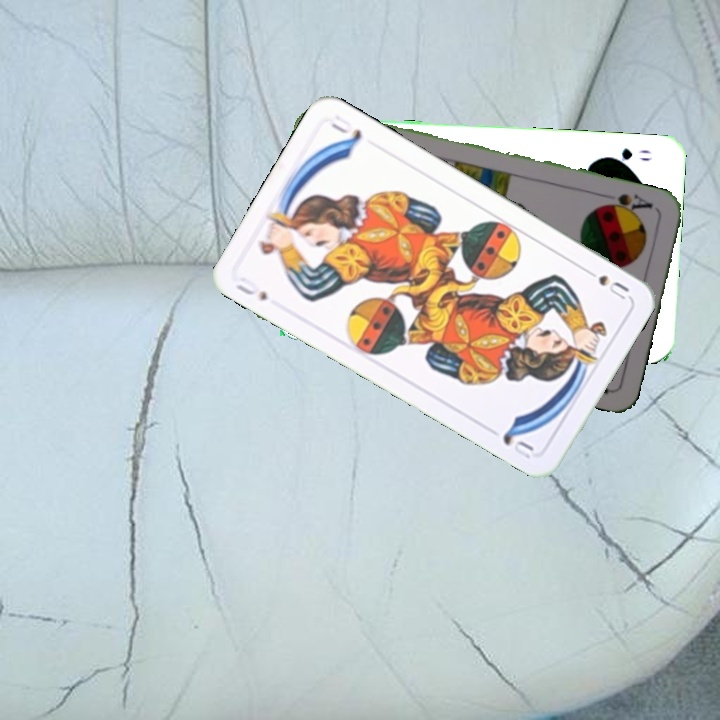GO: (600, 144, 654, 167)
SA: (598, 189, 655, 218)
SU: (578, 264, 632, 303), (231, 272, 270, 303)
